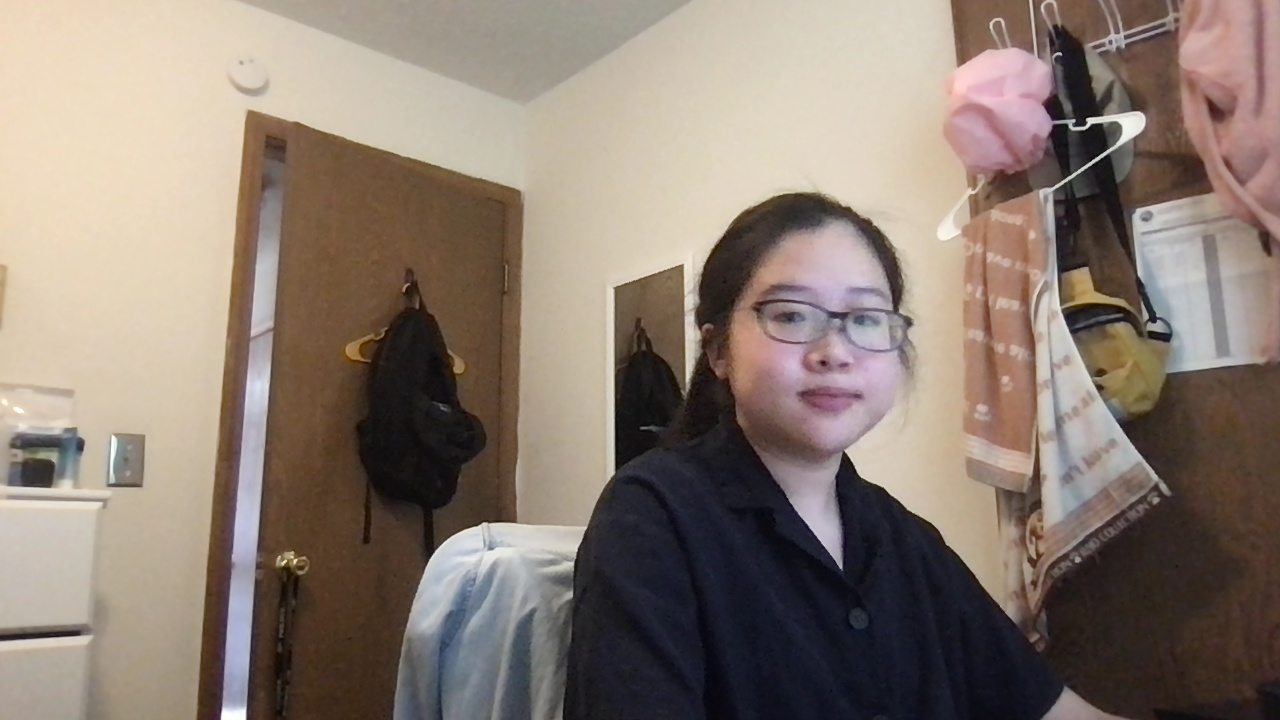NoMask: (729, 343, 914, 445)
